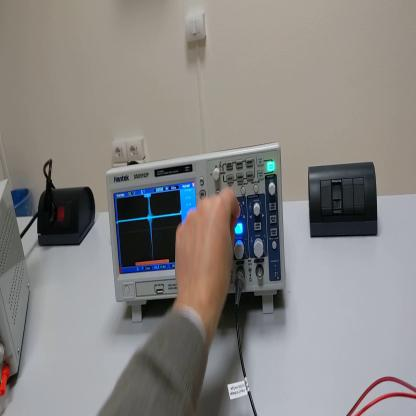hand: (173, 186, 240, 323)
oscilloscope: (104, 140, 286, 320)
power supply: (1, 178, 31, 387)
socket: (38, 187, 98, 246)
